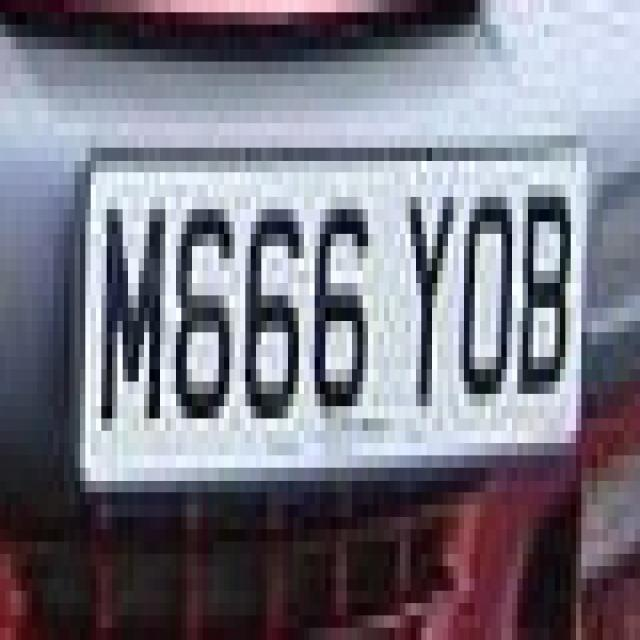0: (464, 179, 516, 414)
6: (238, 184, 305, 434), (173, 194, 237, 429), (310, 198, 372, 418)
B: (522, 167, 576, 416)
M: (100, 189, 166, 444)
Y: (406, 167, 458, 422)
